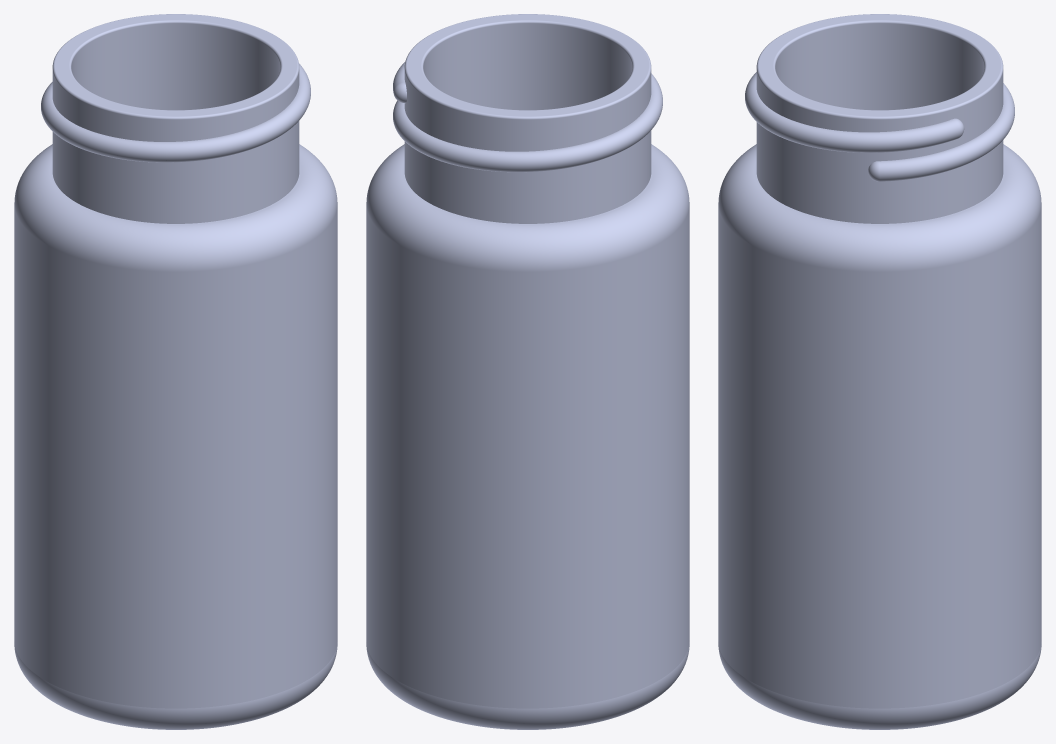
File: Frasco.fbx
3 views of the same model, side by side, from view 1: azimuth 30°, elevation 25°; view 2: azimuth 150°, elevation 25°; view 3: azimuth 270°, elevation 25° (orthographic).
Visible parts, largest first — view 1: Frasco; view 2: Frasco; view 3: Frasco.
Boxes of the visible parts, x1=… form: Frasco: x1=14, y1=14, x2=337, y2=729; Frasco: x1=366, y1=14, x2=689, y2=729; Frasco: x1=718, y1=14, x2=1041, y2=729.
Bounding box in the file's own units: 27.52 × 57 × 27.52.
